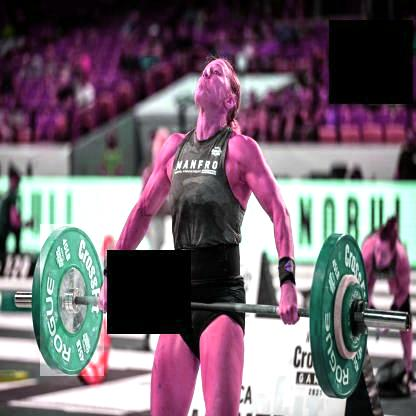barbell: (41, 224, 105, 377), (320, 232, 371, 400)
